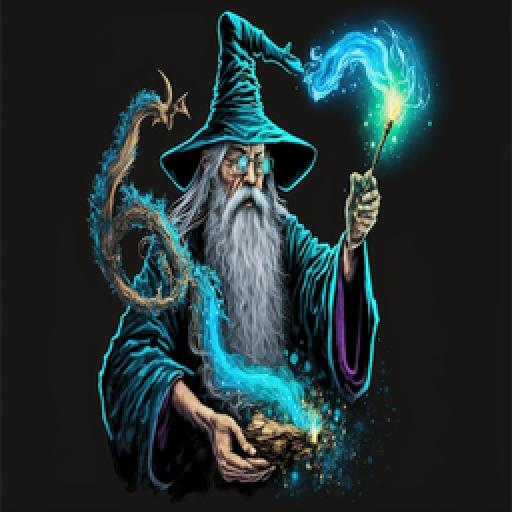wizards: (96, 13, 380, 489)
